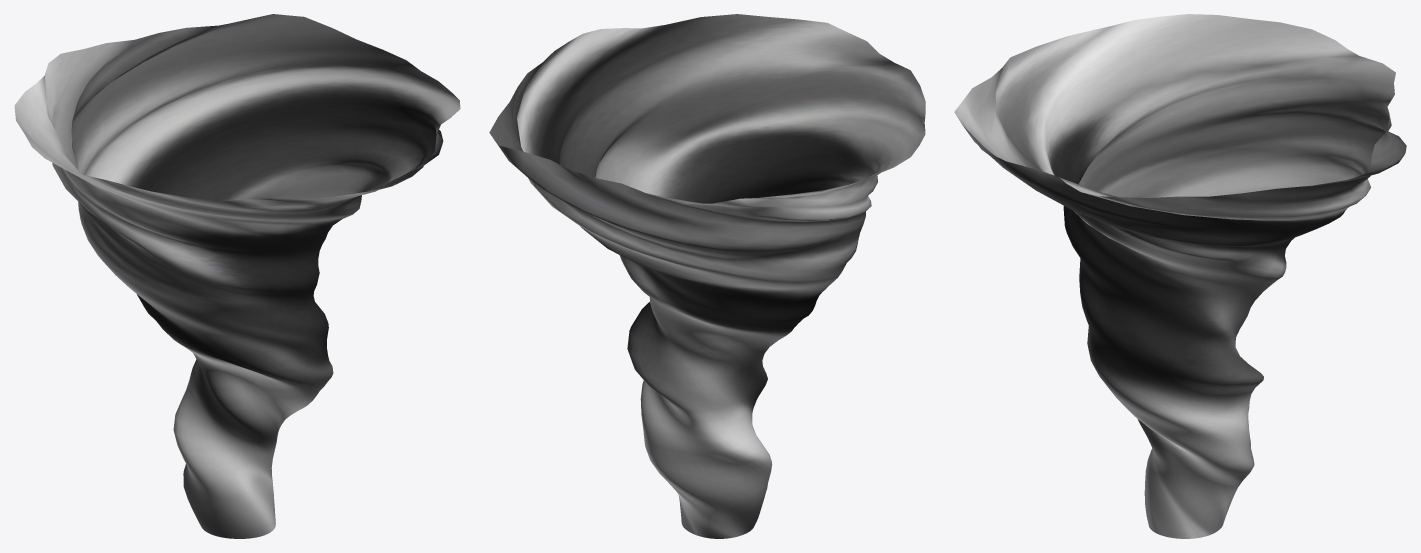
The model's file is L34_tyd_Cylinder_002.FBX.
3 views of the same model, side by side, from view 1: azimuth 30°, elevation 25°; view 2: azimuth 150°, elevation 25°; view 3: azimuth 270°, elevation 25° (orthographic).
Parts seen in each view (by area): view 1: L34_tyd_Cylinder002; view 2: L34_tyd_Cylinder002; view 3: L34_tyd_Cylinder002.
Part boxes in pixels (<box>): L34_tyd_Cylinder002: <box>14,14,460,538</box>; L34_tyd_Cylinder002: <box>489,14,925,538</box>; L34_tyd_Cylinder002: <box>954,14,1406,538</box>.
Size of the model in its own units: 3.98 by 4.16 by 4.12.
